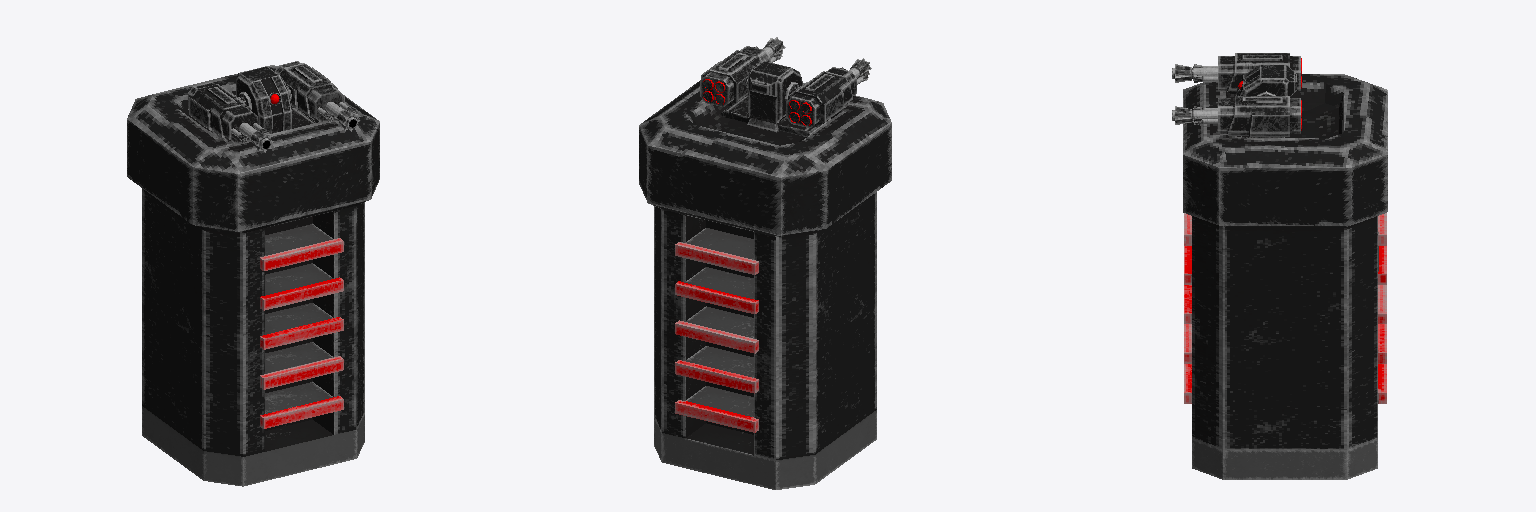
3 views of the same model, side by side, from view 1: azimuth 30°, elevation 25°; view 2: azimuth 150°, elevation 25°; view 3: azimuth 270°, elevation 25° (orthographic).
Visible parts, largest first — view 1: kaonov_tower; view 2: kaonov_tower; view 3: kaonov_tower.
Part boxes in pixels (x1,y1,x2,y2): kaonov_tower: (127, 61, 379, 486); kaonov_tower: (639, 37, 891, 489); kaonov_tower: (1172, 53, 1387, 479).
Size of the model in its own units: 188 by 353 by 187.
1 materials, 1 textured.